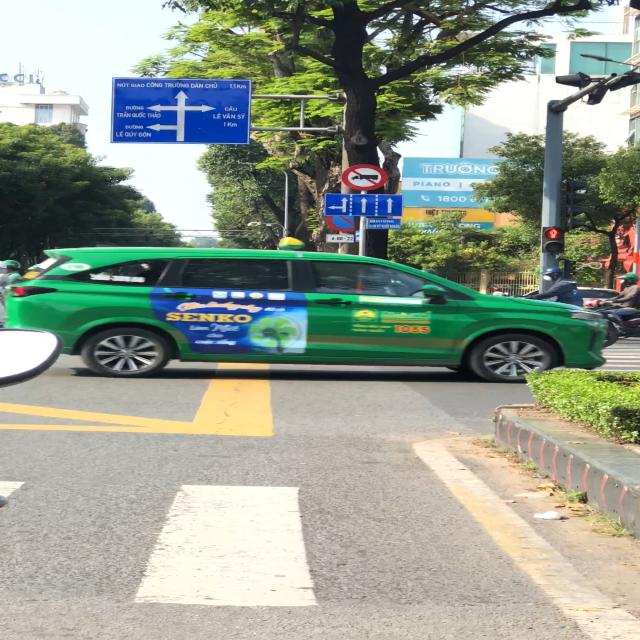Bien bao cam xe so-mi ro-mooc: (337, 162, 395, 193)
